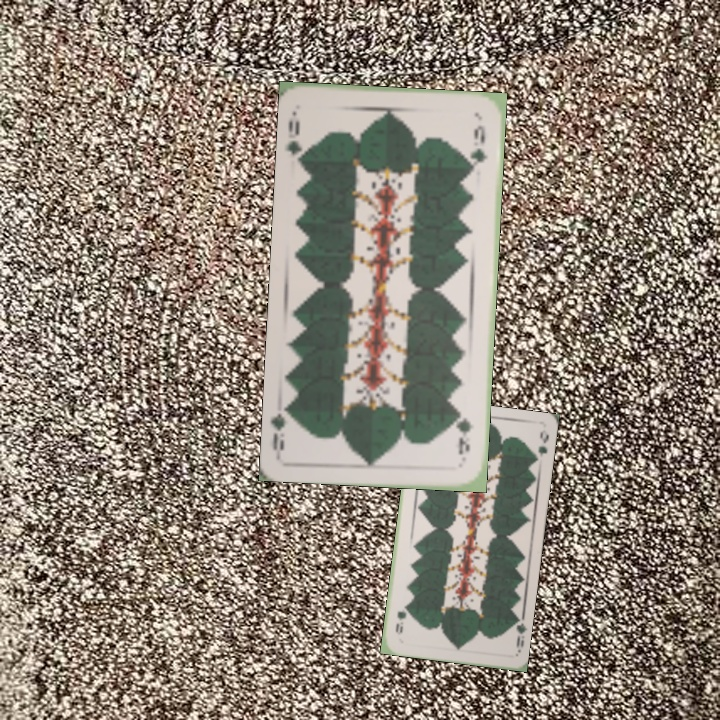G9: (282, 115, 310, 166), (454, 408, 474, 458), (508, 614, 528, 655)
